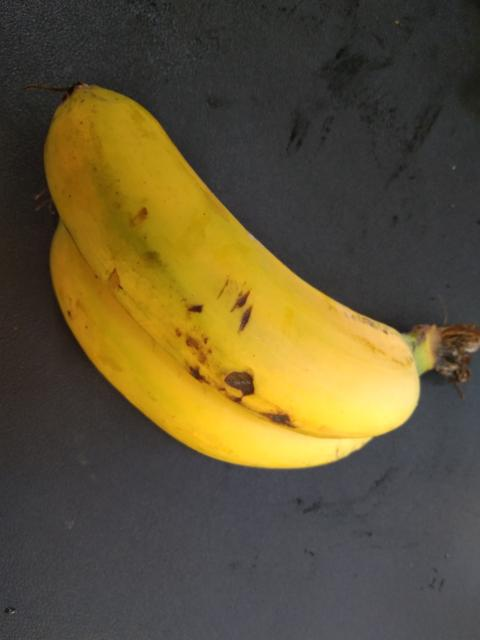ripe: (47, 81, 436, 444)
